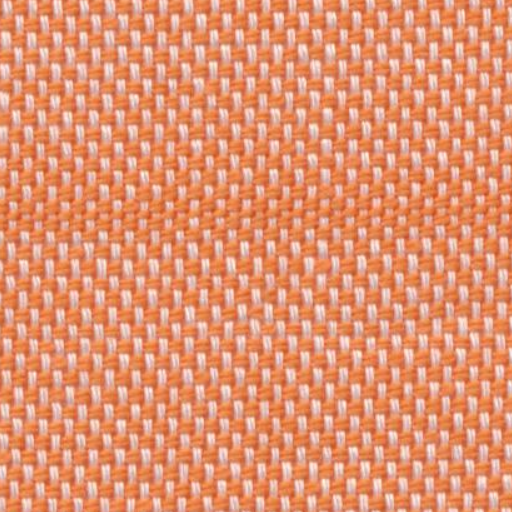TuoSha: (6, 154, 504, 262)
